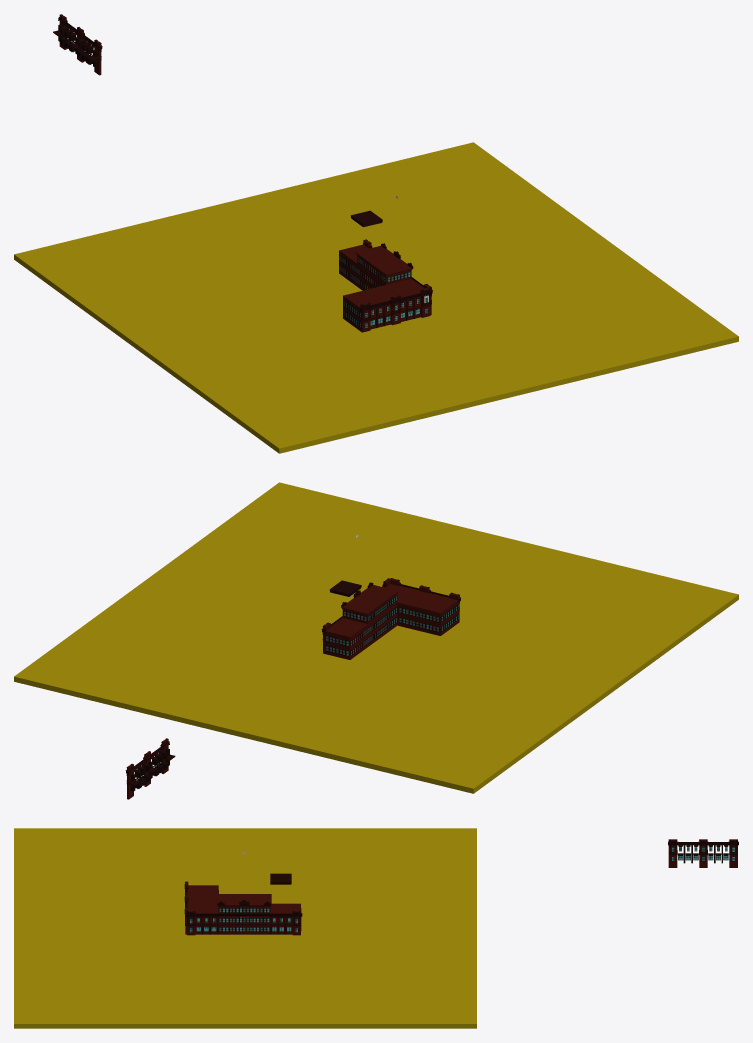
The model's file is dom_lapshina.obj.
The picture shows the model from 3 angles, top to bottom: view 1: azimuth 30°, elevation 25°; view 2: azimuth 150°, elevation 25°; view 3: azimuth 270°, elevation 25°; orthographic projection. The views are drawn at different scales.
Visible parts, largest first — view 1: Plane, Cube_Cube.002, Cube.136_Cube.169; view 2: Plane, Cube_Cube.002, Cube.136_Cube.169, Cube.161_Cube.202; view 3: Plane, Cube_Cube.002, Cube.136_Cube.169.
Part boxes in pixels (bbox=[...]): Plane: bbox=[14, 142, 738, 453]; Cube_Cube.002: bbox=[339, 244, 423, 331]; Cube.136_Cube.169: bbox=[357, 246, 411, 284]; Plane: bbox=[14, 482, 738, 793]; Cube_Cube.002: bbox=[326, 584, 458, 659]; Cube.136_Cube.169: bbox=[342, 585, 397, 623]; Cube.161_Cube.202: bbox=[350, 607, 397, 655]; Plane: bbox=[14, 828, 476, 1028]; Cube_Cube.002: bbox=[187, 885, 300, 934]; Cube.136_Cube.169: bbox=[218, 894, 269, 913].
Bounding box in the file's own units: 54.27 × 12.45 × 84.96.
